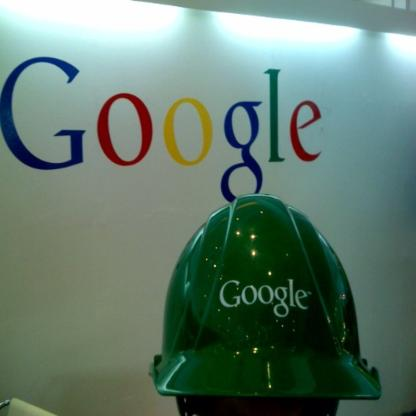Helmet: (141, 193, 371, 413)
